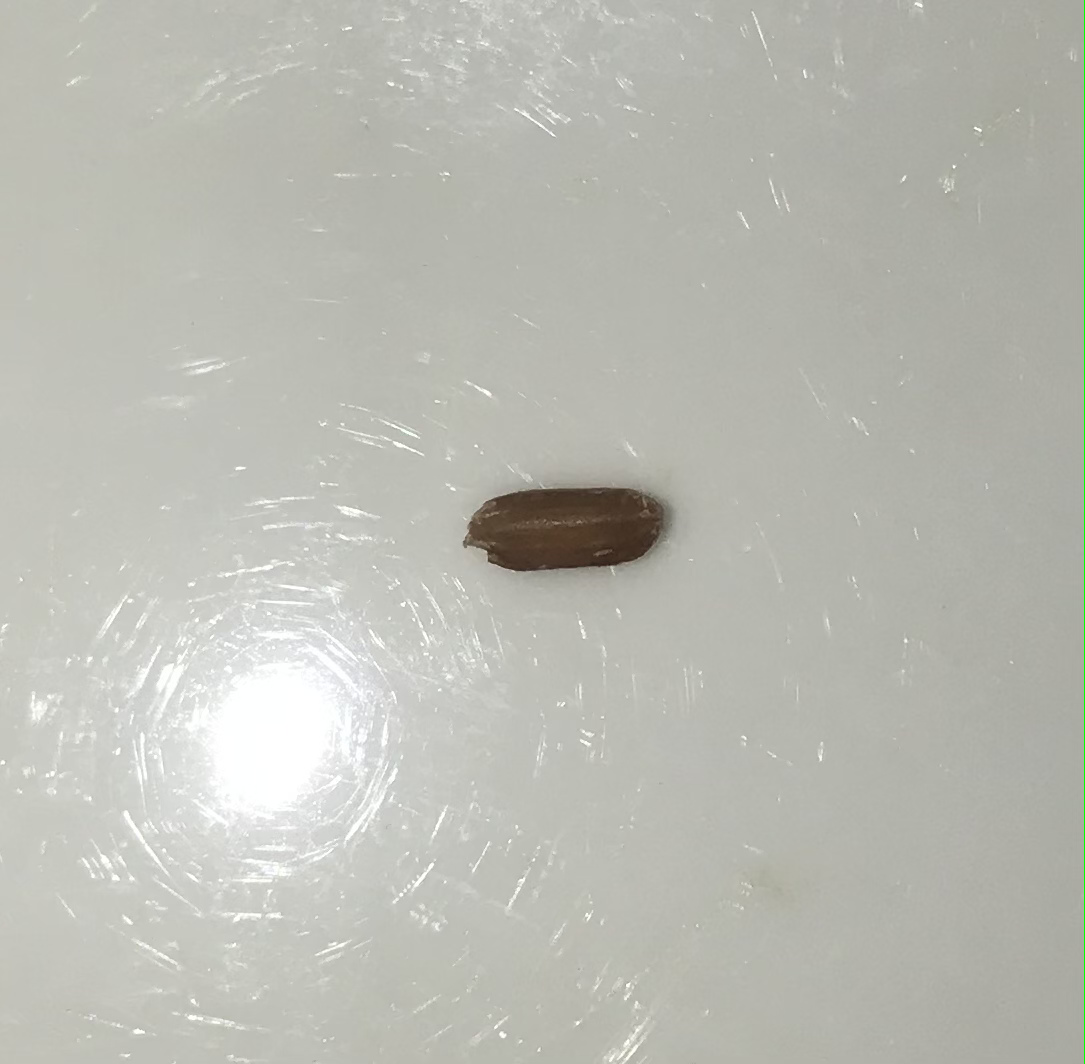Gao Lut Do: (456, 480, 683, 588)
